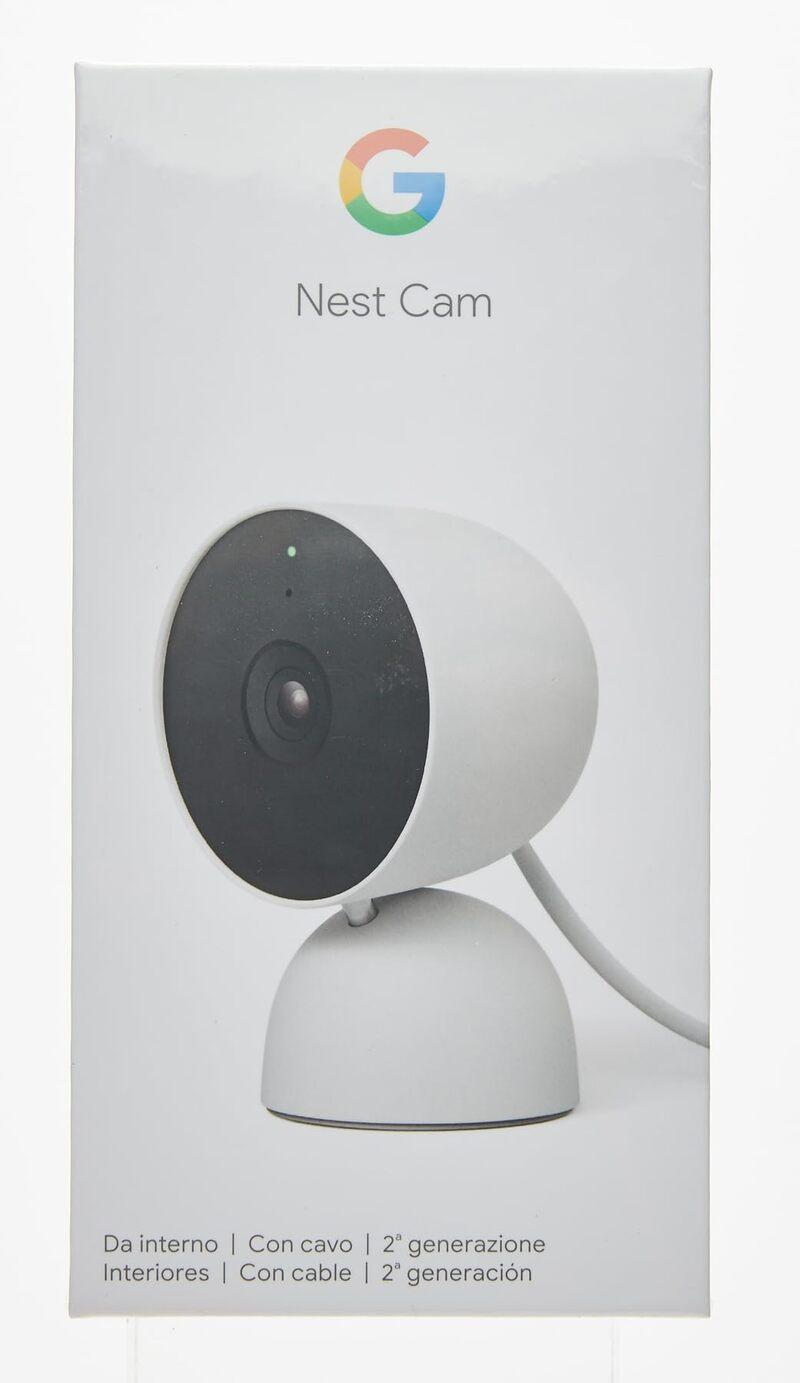nest: (116, 466, 648, 1169)
